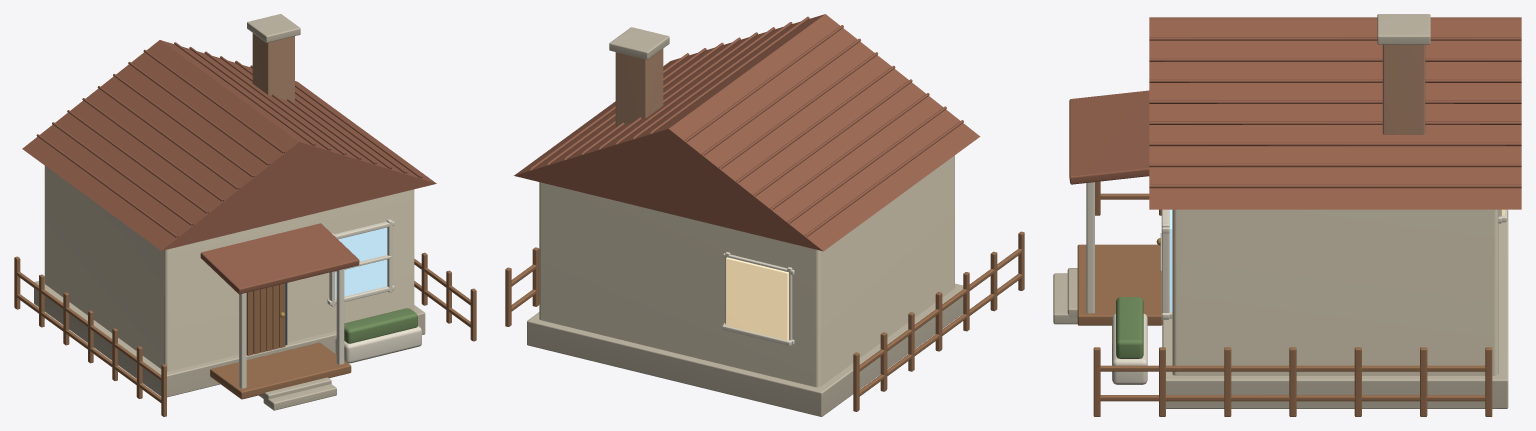
Rendered from cottage.glb.
The picture shows the model from 3 angles, left to right: view 1: azimuth 30°, elevation 25°; view 2: azimuth 150°, elevation 25°; view 3: azimuth 270°, elevation 25°; orthographic projection. The views are drawn at different scales.
Parts seen in each view (by area): view 1: cottage_Gable_Roof, cottage_Limewashed_House, cottage_Porch_Canopy, cottage_Stone_Foundation, cottage_Porch_Deck, cottage_Chimney, cottage_Window_Recess, cottage_Raised_Planter, cottage_Hedge, cottage_Chimney_Cap, cottage_Entry_Step, cottage_Garden_Rail.001 (+23 smaller); view 2: cottage_Gable_Roof, cottage_Limewashed_House, cottage_Stone_Foundation, cottage_Window_Recess.001, cottage_Chimney, cottage_Chimney_Cap, cottage_Garden_Rail.001, cottage_Garden_Rail, cottage_Roof_Tile_Course, cottage_Roof_Tile_Course.001, cottage_Roof_Tile_Course.002, cottage_Roof_Tile_Course.003 (+9 smaller); view 3: cottage_Gable_Roof, cottage_Limewashed_House, cottage_Stone_Foundation, cottage_Porch_Canopy, cottage_Porch_Deck, cottage_Chimney, cottage_Garden_Rail.002, cottage_Garden_Rail.003, cottage_Roof_Tile_Course.013, cottage_Roof_Tile_Course.014, cottage_Roof_Tile_Course.015, cottage_Hedge (+19 smaller).
Boxes of the visible parts, x1,y1,x2,y2 form: cottage_Gable_Roof: (22, 40, 436, 250); cottage_Limewashed_House: (44, 166, 414, 371); cottage_Porch_Canopy: (200, 223, 359, 294); cottage_Stone_Foundation: (34, 281, 425, 397); cottage_Porch_Deck: (210, 342, 351, 399); cottage_Chimney: (252, 33, 294, 102); cottage_Window_Recess: (335, 227, 387, 298); cottage_Raised_Planter: (335, 326, 421, 363); cottage_Hedge: (344, 308, 417, 343); cottage_Chimney_Cap: (247, 14, 300, 42); cottage_Entry_Step: (263, 384, 336, 410); cottage_Garden_Rail.001: (17, 272, 161, 380); cottage_Gable_Roof: (514, 14, 980, 251); cottage_Limewashed_House: (539, 155, 954, 387); cottage_Stone_Foundation: (527, 283, 963, 416); cottage_Window_Recess.001: (726, 257, 788, 340); cottage_Chimney: (615, 49, 663, 126); cottage_Chimney_Cap: (609, 27, 669, 59); cottage_Garden_Rail.001: (859, 248, 1021, 371); cottage_Garden_Rail: (859, 273, 1021, 396); cottage_Roof_Tile_Course: (684, 25, 843, 142); cottage_Roof_Tile_Course.001: (701, 38, 860, 155); cottage_Roof_Tile_Course.002: (719, 52, 878, 169); cottage_Roof_Tile_Course.003: (736, 65, 895, 183); cottage_Gable_Roof: (1149, 19, 1521, 209); cottage_Limewashed_House: (1172, 209, 1498, 375); cottage_Stone_Foundation: (1162, 210, 1508, 408); cottage_Porch_Canopy: (1069, 90, 1149, 184); cottage_Porch_Deck: (1077, 244, 1162, 325); cottage_Chimney: (1382, 44, 1425, 134); cottage_Garden_Rail.002: (1100, 395, 1485, 401); cottage_Garden_Rail.003: (1100, 365, 1485, 371); cottage_Roof_Tile_Course.013: (1149, 142, 1521, 146); cottage_Roof_Tile_Course.014: (1149, 163, 1521, 167); cottage_Roof_Tile_Course.015: (1149, 184, 1521, 188); cottage_Hedge: (1116, 297, 1143, 358).
Size of the model in its own units: 7.39 by 5.83 by 7.17.
